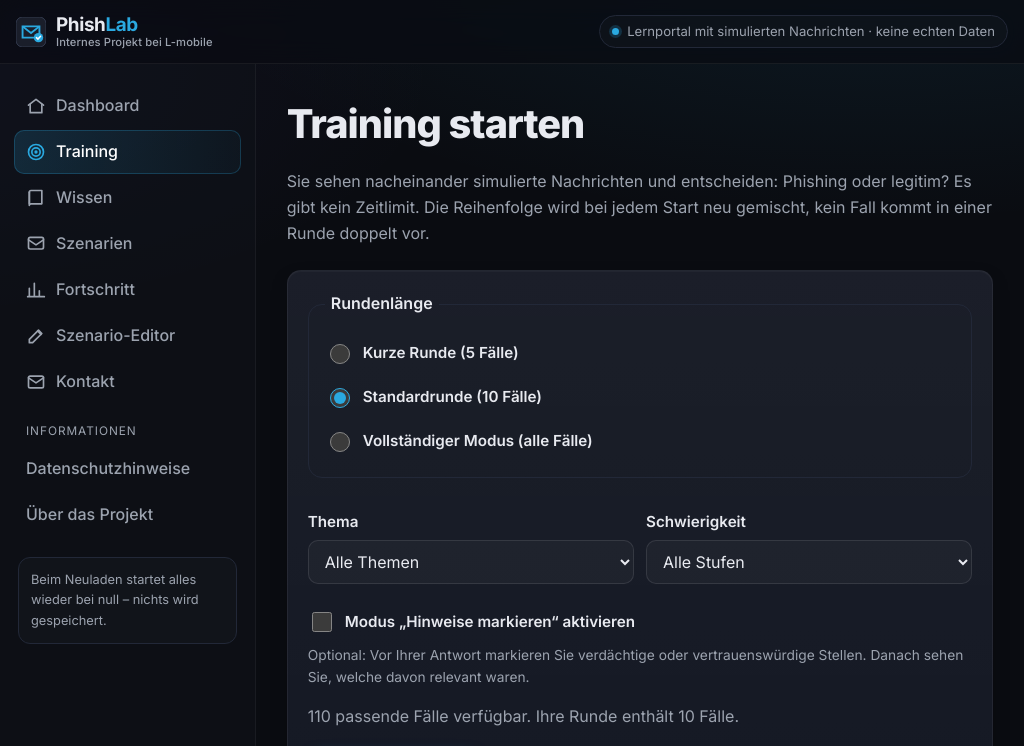
Test: Vertikaler Ablauf › Hinweise-markieren-Modus wertet Markierungen aus
Click the checkbox labelled "Modus „Hinweise markieren“ aktivieren" at [322, 622], box [312, 612, 332, 632]
(page scrolled)
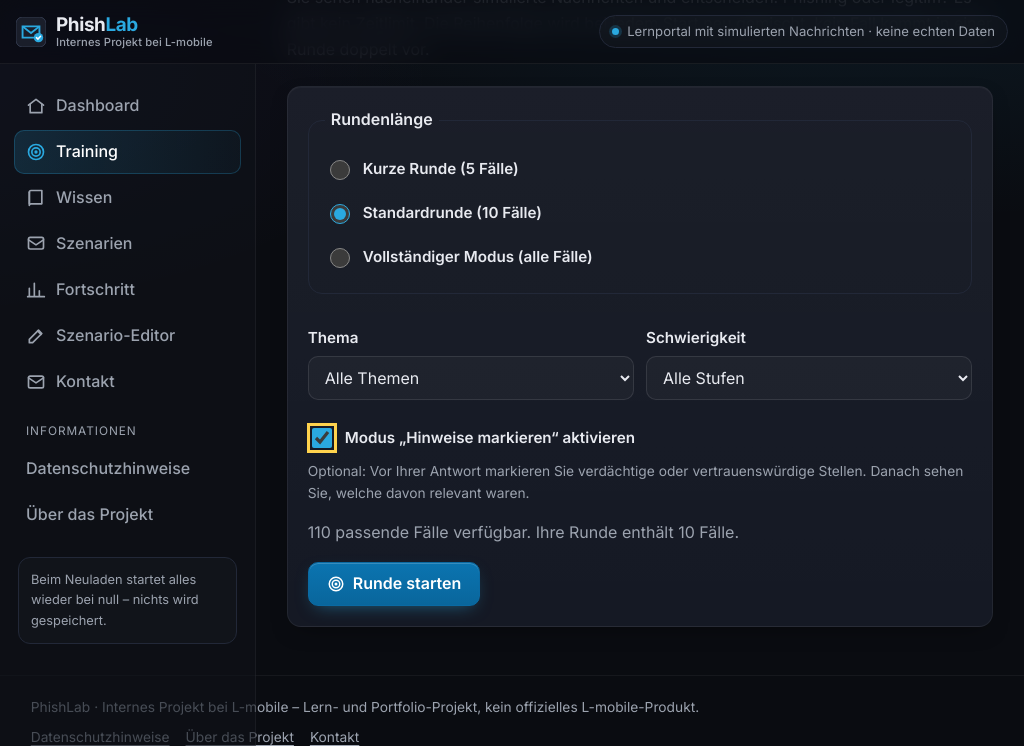
Click the button "Runde starten" at [394, 584], box [308, 562, 480, 606]
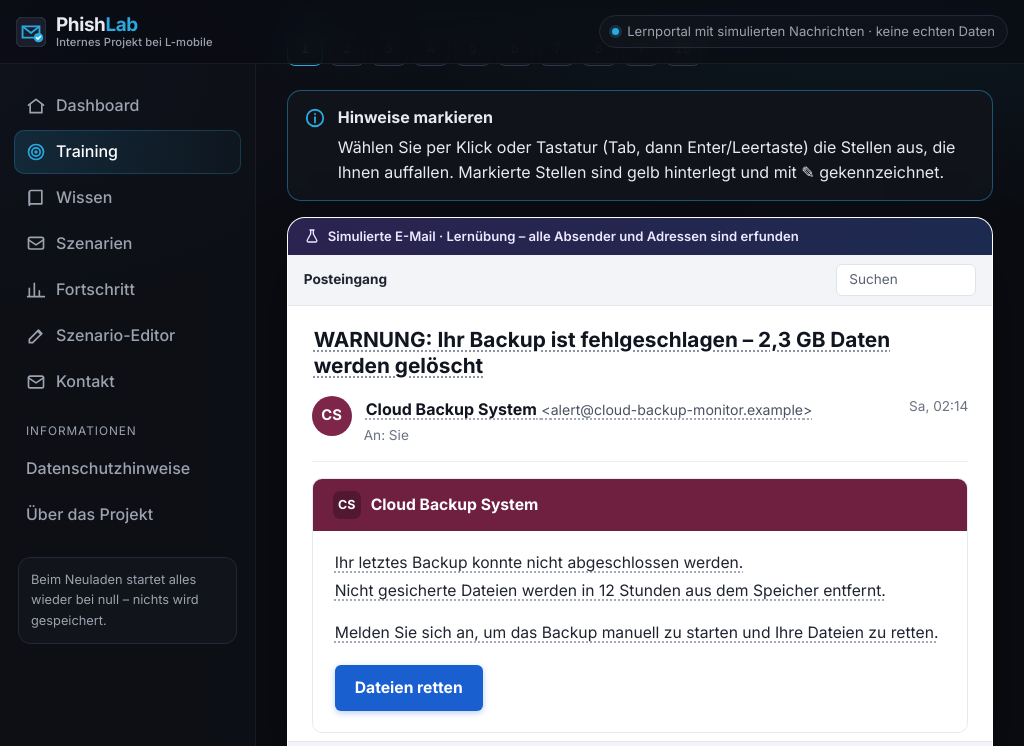
Click the button with aria-label "Absender markieren" at [630, 409], box [364, 396, 897, 423]
(page scrolled)
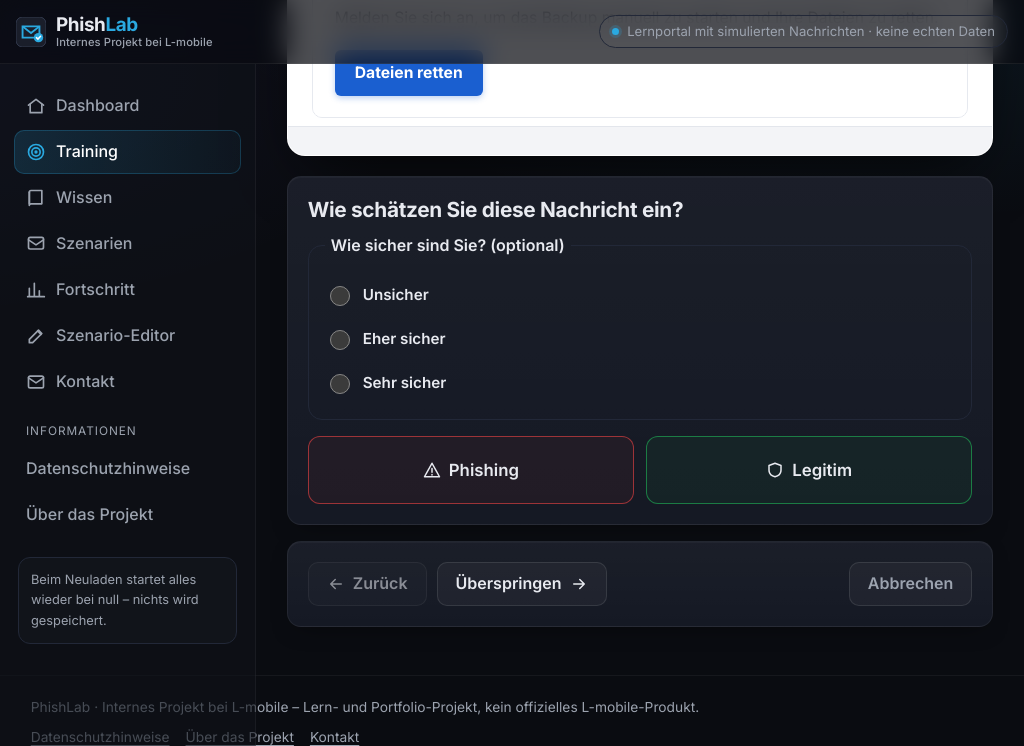
Click the button "Legitim" at [809, 470], box [646, 436, 972, 504]
(page scrolled)
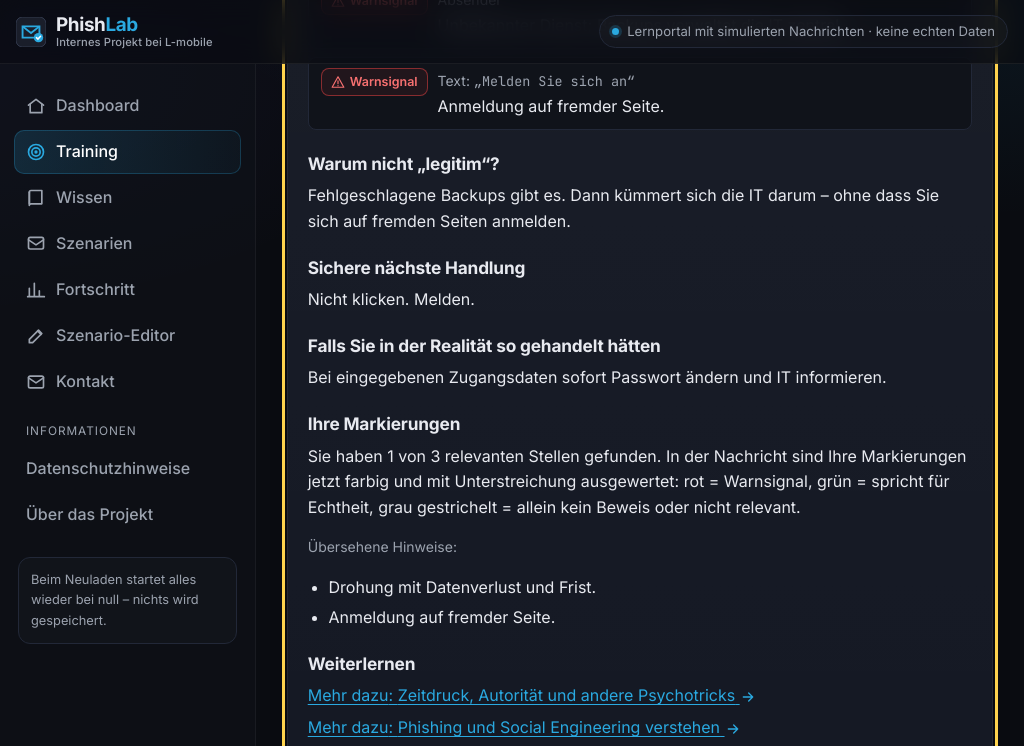
Now the heading "Ihre Markierungen" is shown, box [308, 413, 460, 434]
